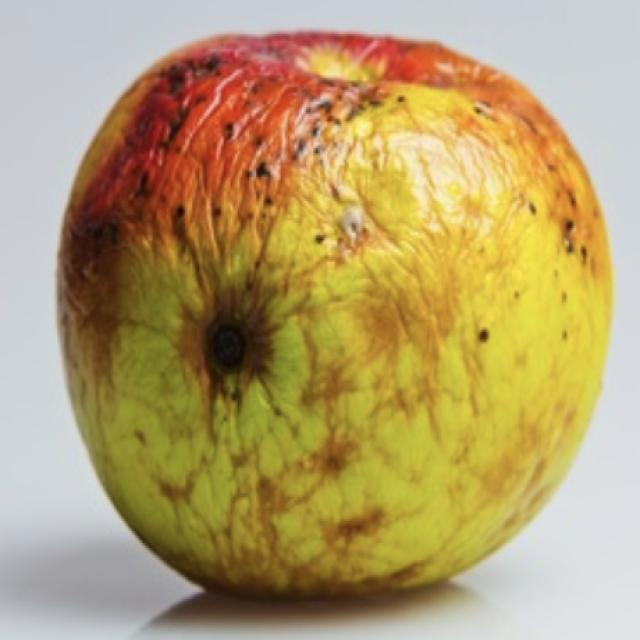apple: (59, 35, 612, 595)
